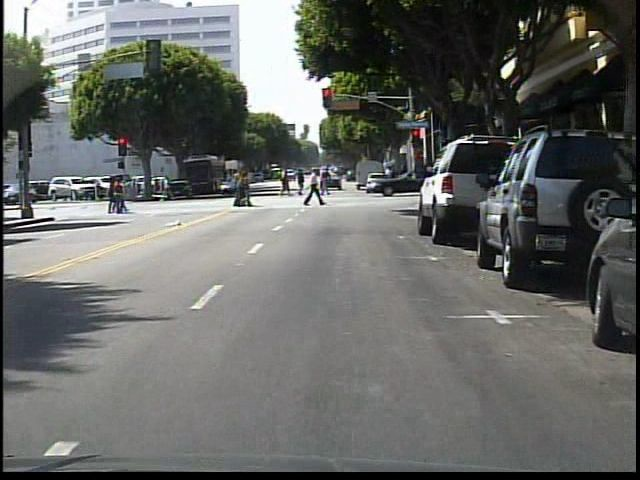person: (303, 166, 325, 212), (159, 170, 178, 200), (320, 167, 336, 196)
